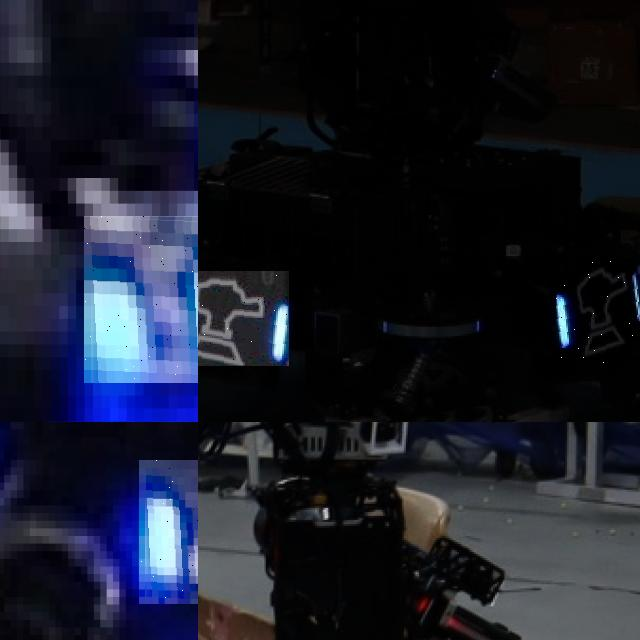B4: (138, 459, 198, 604)
B5: (84, 216, 198, 382)
Bs: (555, 258, 640, 364), (198, 271, 289, 366)
